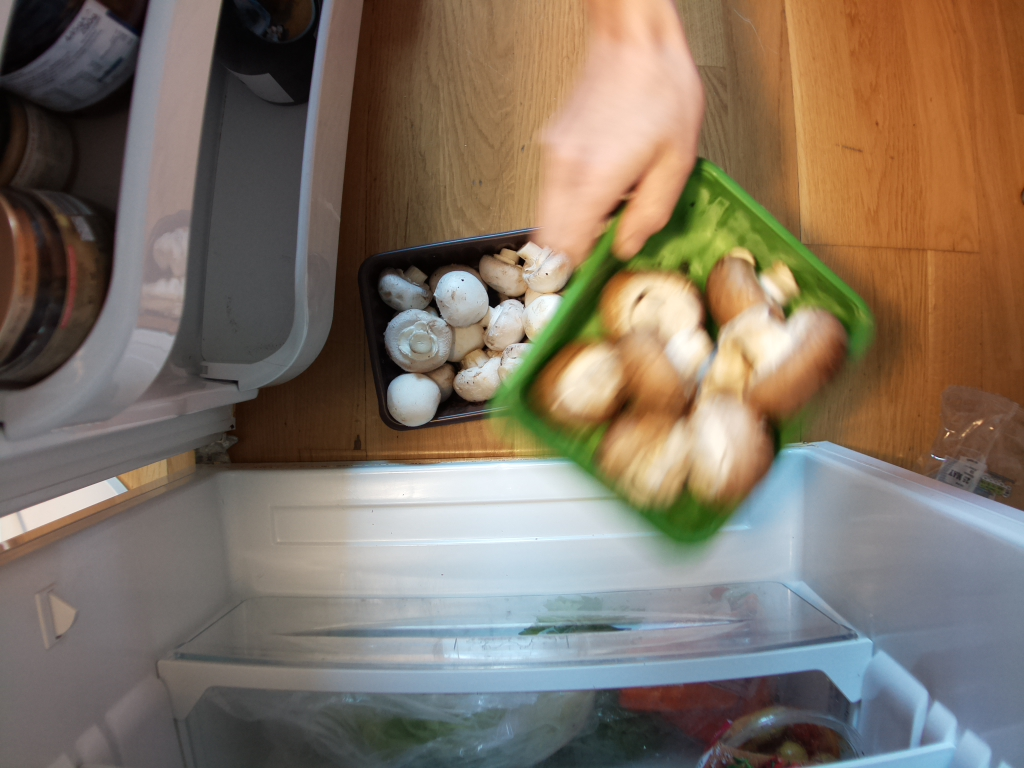mushrooms: (511, 165, 869, 537), (373, 223, 559, 423)
